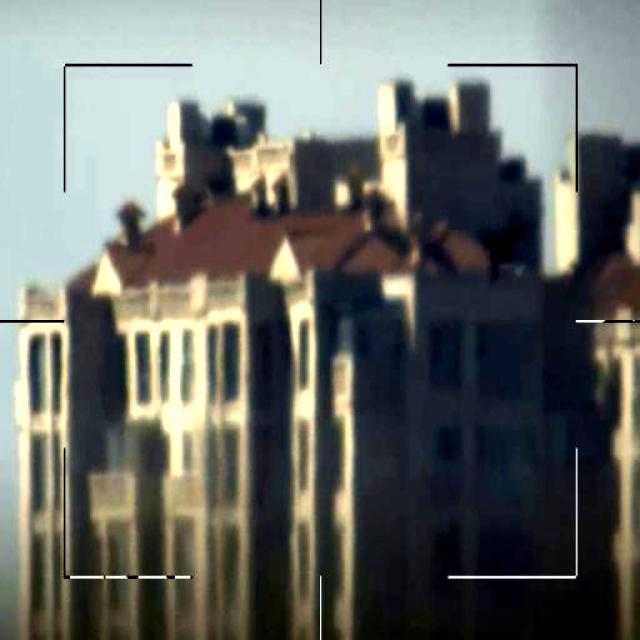bird: (470, 218, 522, 285)
